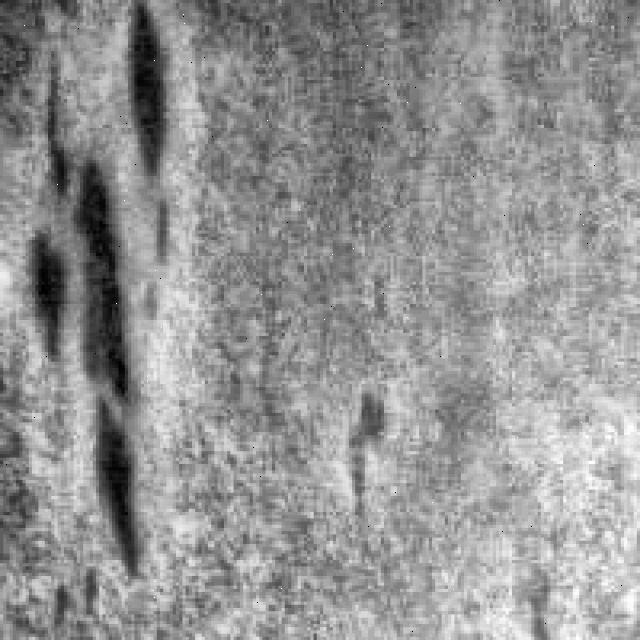Patches: (22, 7, 170, 586), (128, 0, 192, 266), (336, 365, 406, 512)
